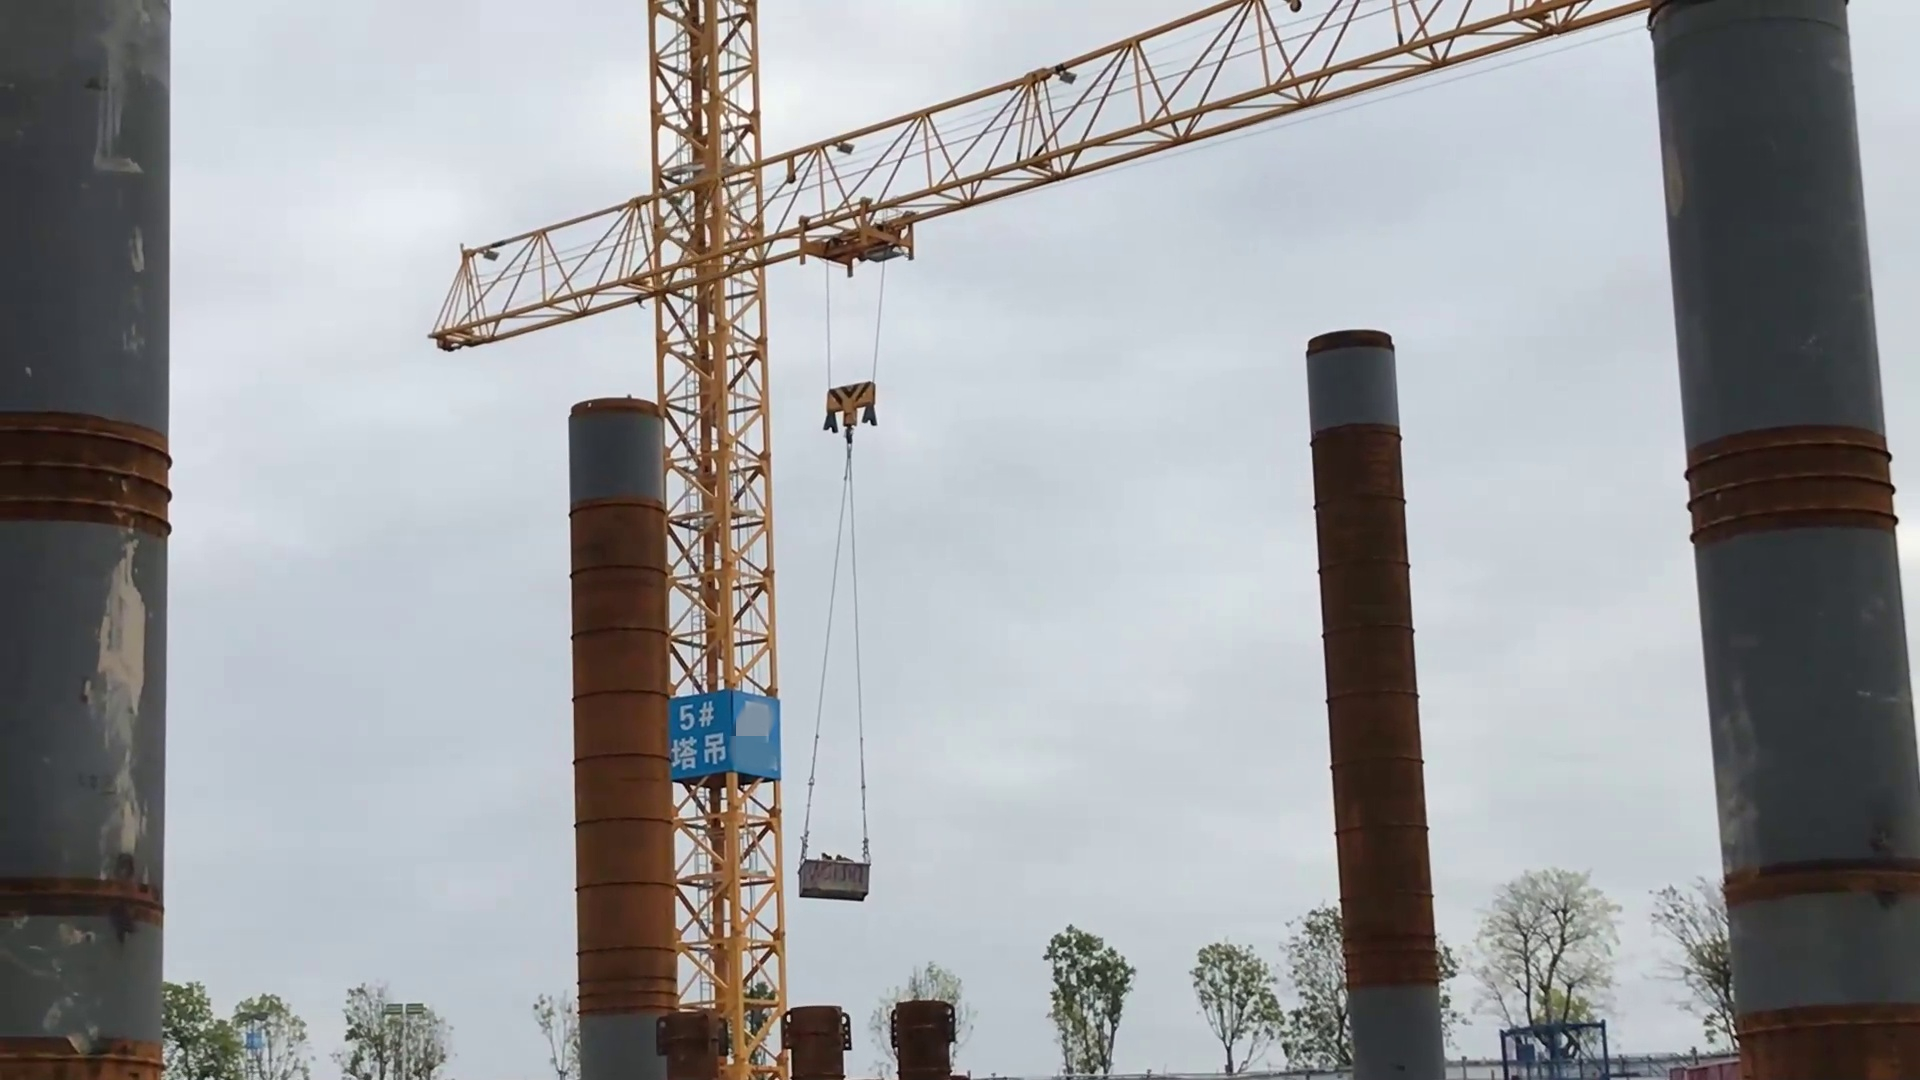hook: (828, 382, 876, 431)
